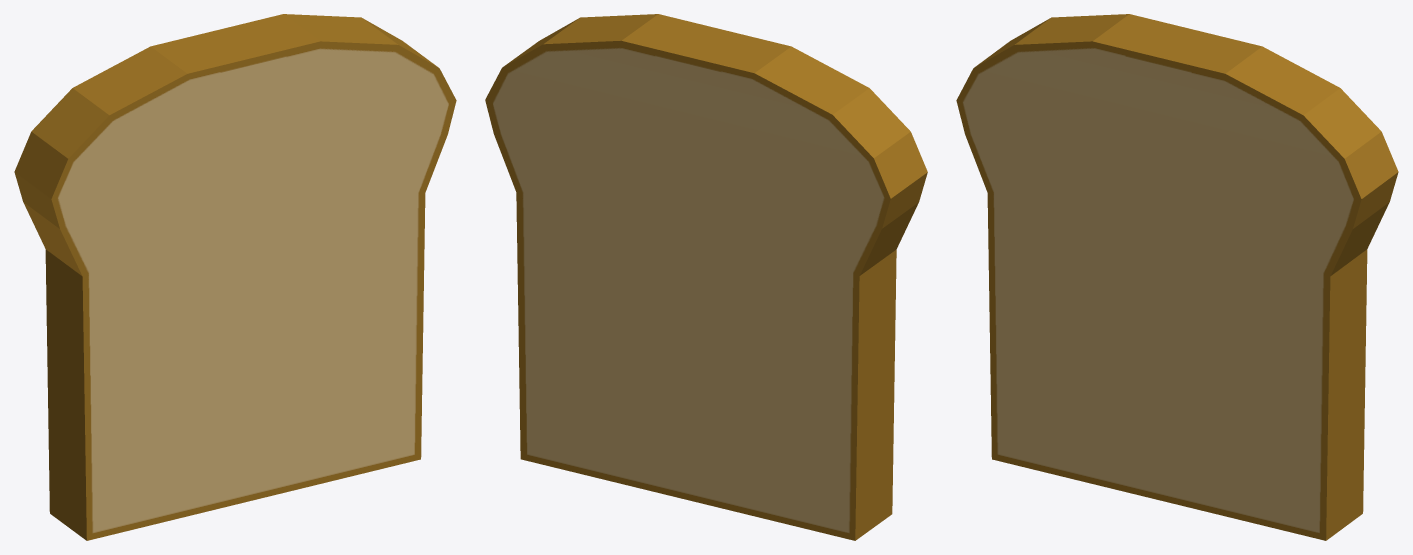
The model's file is Bread2Doors.fbx.
The picture shows the model from 3 angles, left to right: view 1: azimuth 30°, elevation 25°; view 2: azimuth 150°, elevation 25°; view 3: azimuth 330°, elevation 25°; orthographic projection.
Parts seen in each view (by area): view 1: Cube.016; view 2: Cube.016; view 3: Cube.016.
Part boxes in pixels (x1,y1,x2,y2): Cube.016: (14,14,456,540); Cube.016: (485,14,927,540); Cube.016: (956,14,1398,540).
Size of the model in its own units: 710 by 742 by 112.
1 material, 1 textured.
